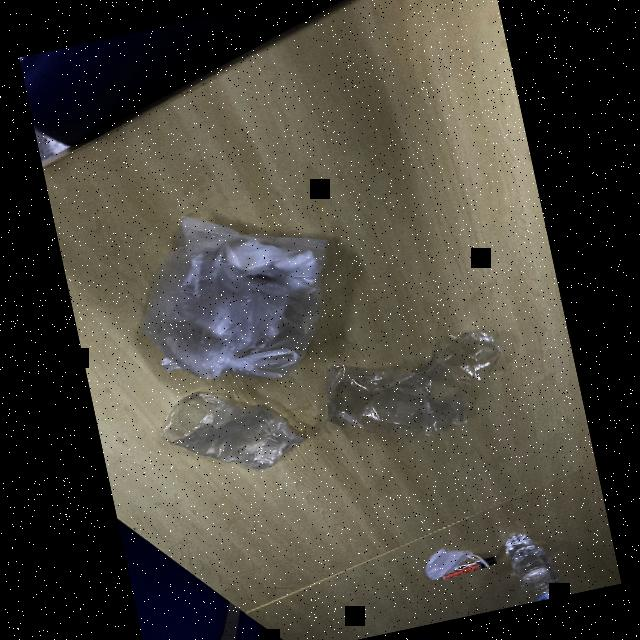plastic_bag: (113, 194, 352, 392)
scrap_plastic: (306, 309, 517, 454), (144, 360, 318, 498)
